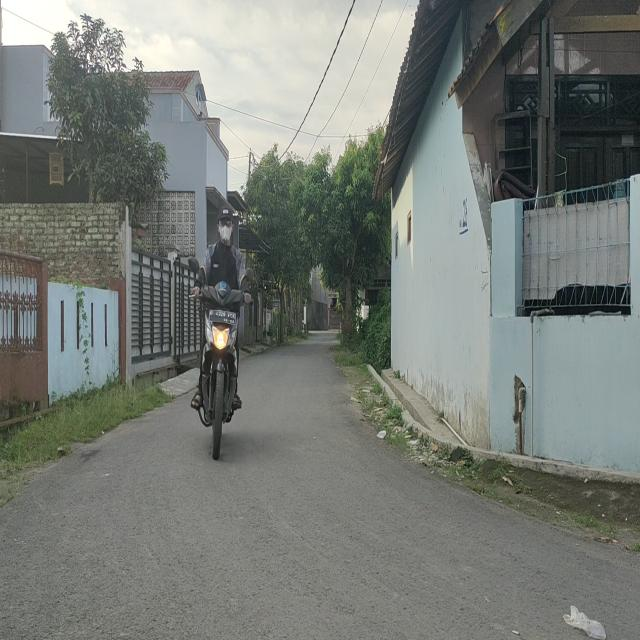no-helmet: (212, 201, 235, 247)
